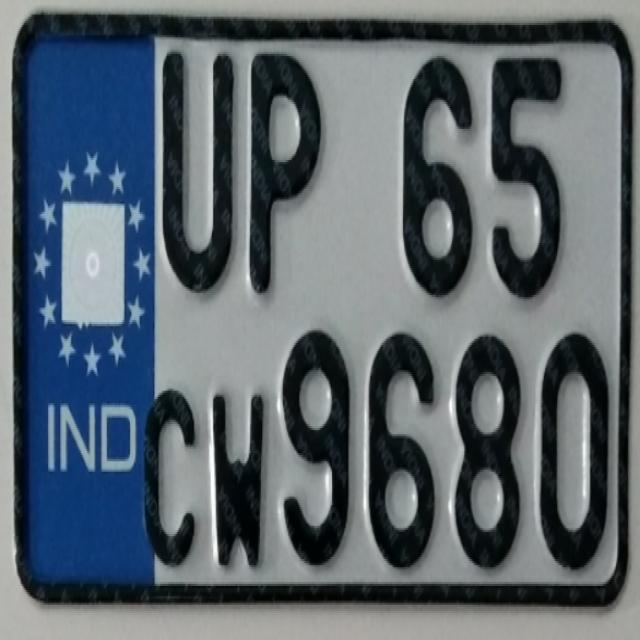0: (533, 322, 614, 583)
5: (483, 50, 573, 304)
6: (396, 41, 479, 302), (361, 324, 443, 583)
8: (453, 330, 529, 578)
9: (278, 310, 360, 572)
C: (141, 374, 202, 580)
P: (244, 46, 328, 296)
U: (156, 42, 237, 306)
W: (208, 376, 272, 578)
